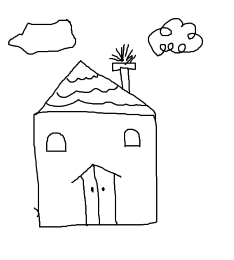clouds: (7, 18, 77, 54), (147, 17, 204, 56)
door: (72, 163, 122, 224)
open_window: (45, 132, 69, 152), (123, 127, 141, 148)
roof: (33, 60, 154, 113)
smoking_chimney: (104, 40, 142, 93)
wall: (28, 106, 160, 232)
